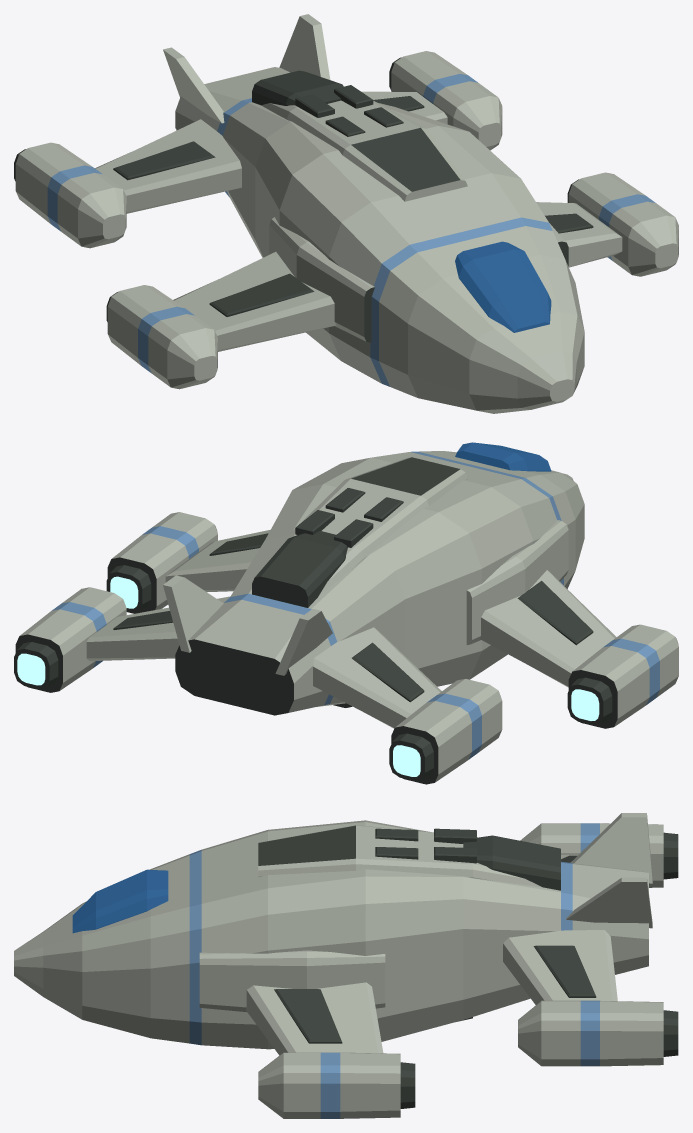
The model's file is alliance-crusader.glb.
3 renders of one model, top to bottom at view 1: azimuth 30°, elevation 25°; view 2: azimuth 150°, elevation 25°; view 3: azimuth 270°, elevation 25°, orthographic. The views are drawn at different scales.
Parts seen in each view (by area): view 1: alliance-crusader; view 2: alliance-crusader; view 3: alliance-crusader.
Boxes of the visible parts, <box> form: alliance-crusader: <box>14,14,678,413</box>; alliance-crusader: <box>14,442,678,784</box>; alliance-crusader: <box>14,813,678,1118</box>.
Bounding box in the file's own units: 58.6 × 20.5 × 68.08.
